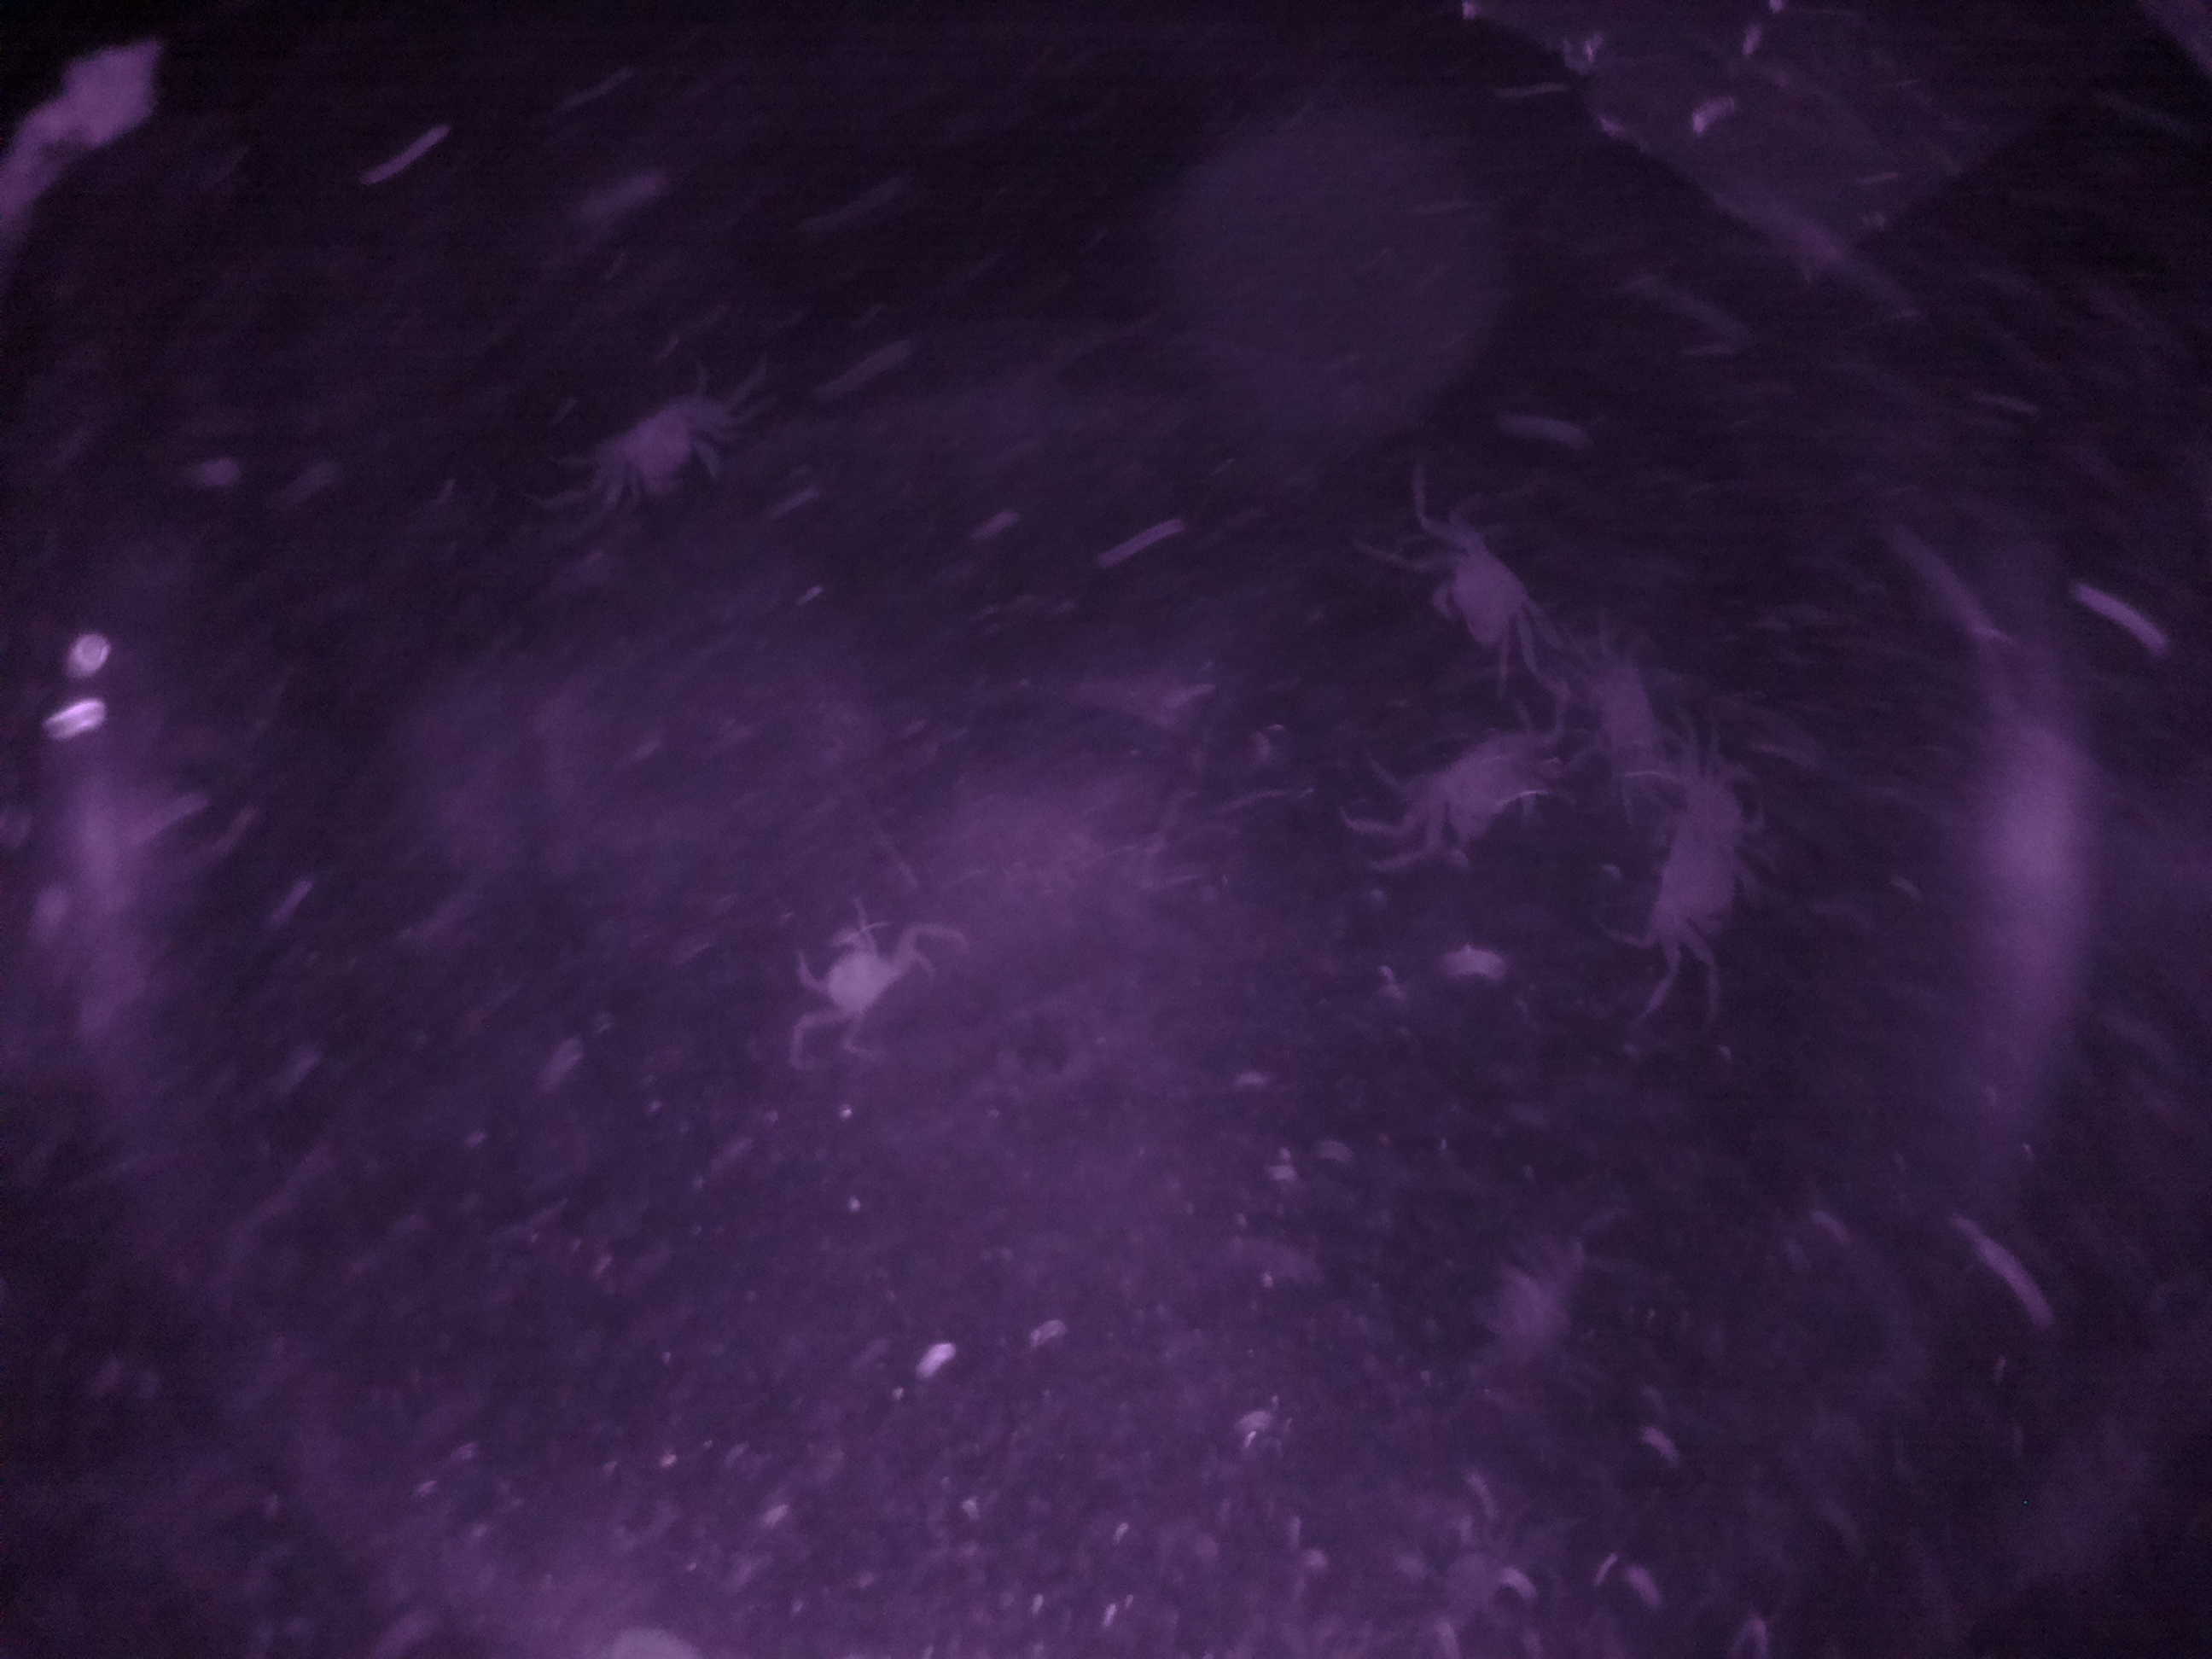Crab: (1411, 518, 1566, 680)
